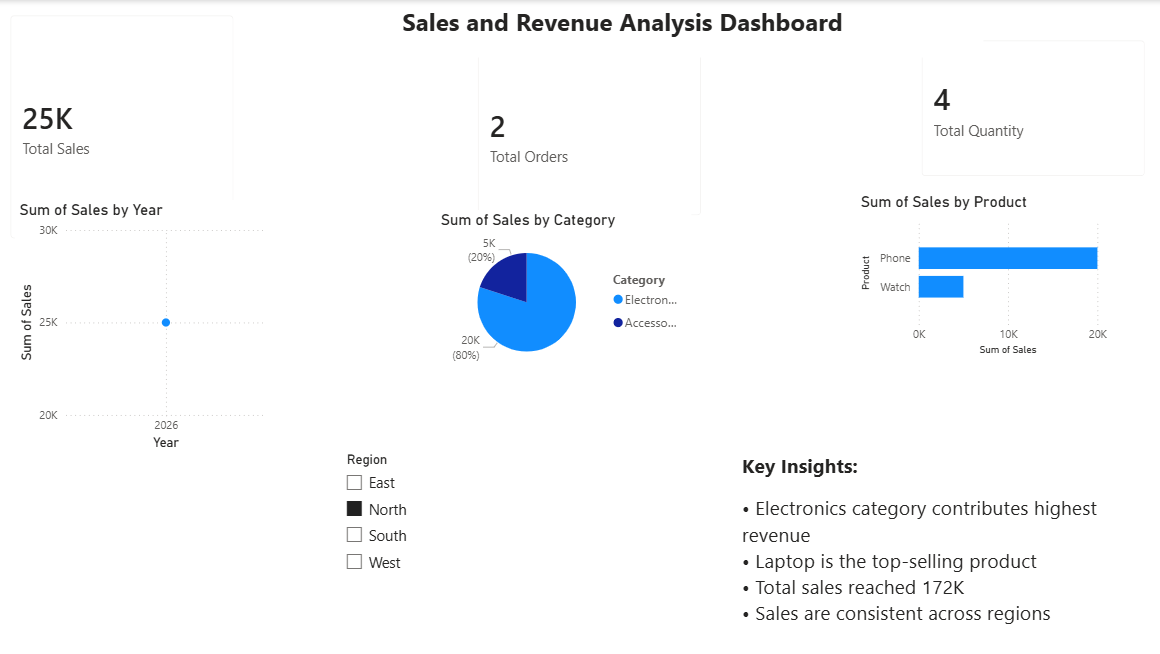

The dashboard page shown, as its layout file describes it:
{"tool":"powerbi","page":{"name":"Page 1","canvas":[1280,720],"ordinal":0},"visuals":[{"type":"cardVisual","fields":{"Data":["Sales.Total Sales"]},"box":[0,0,279.9,279.9],"z":0},{"type":"cardVisual","fields":{"Data":["Sales.Total Orders"]},"box":[513.2,42.5,279.9,211.3],"z":1},{"type":"cardVisual","fields":{"Data":["Sales.Total Quantity","Sales.Total Quantity"]},"box":[1000.3,27.4,279.9,183.9],"z":2},{"type":"lineChart","fields":{"Category":["Sales.Date.Variation.Date Hierarchy.Year","Sales.Date.Variation.Date Hierarchy.Quarter","Sales.Date.Variation.Date Hierarchy.Month","Sales.Date.Variation.Date Hierarchy.Day"],"Y":["Sum(Sales.Sales)"]},"box":[22,219.6,279.9,279.9],"z":3},{"type":"barChart","fields":{"Y":["Sum(Sales.Sales)"],"Category":["Sales.Product"]},"box":[945.5,211.3,279.9,183.9],"z":4},{"type":"pieChart","fields":{"Y":["Sum(Sales.Sales)"],"Category":["Sales.Category"]},"box":[484.4,230.5,279.9,183.9],"z":5},{"type":"slicer","fields":{"Values":["Sales.Region"]},"box":[373.2,491.3,279.9,201.7],"z":6},{"type":"textbox","box":[22,518.7,240.1,74.1],"z":7},{"type":"textbox","box":[292.3,0,793.1,63.1],"z":8},{"type":"textbox","box":[815.1,491.3,432.2,201.7],"z":9}]}

Visuals, with their boxes in screenshot pixels (x1, y1, x2, y2), scaled from the page's 1280x720 canvas onto the 1160x654 screenshot:
cardVisual - Sales.Total Sales: bbox=(0, 0, 254, 254)
cardVisual - Sales.Total Orders: bbox=(465, 39, 719, 231)
cardVisual - Sales.Total Quantity x Sales.Total Quantity: bbox=(907, 25, 1159, 192)
lineChart - Sales.Date.Variation.Date Hierarchy.Year x Sales.Date.Variation.Date Hierarchy.Quarter: bbox=(20, 199, 274, 454)
barChart - Sum(Sales.Sales) x Sales.Product: bbox=(857, 192, 1111, 359)
pieChart - Sum(Sales.Sales) x Sales.Category: bbox=(439, 209, 693, 376)
slicer - Sales.Region: bbox=(338, 446, 592, 629)
textbox: bbox=(20, 471, 238, 538)
textbox: bbox=(265, 0, 984, 57)
textbox: bbox=(739, 446, 1130, 629)
